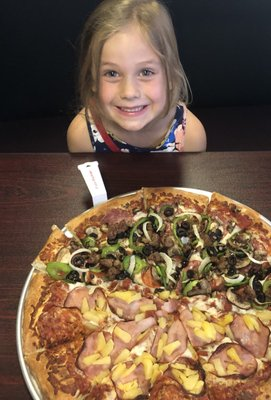curry: (1, 149, 271, 399)
sandwich: (24, 187, 270, 399)
